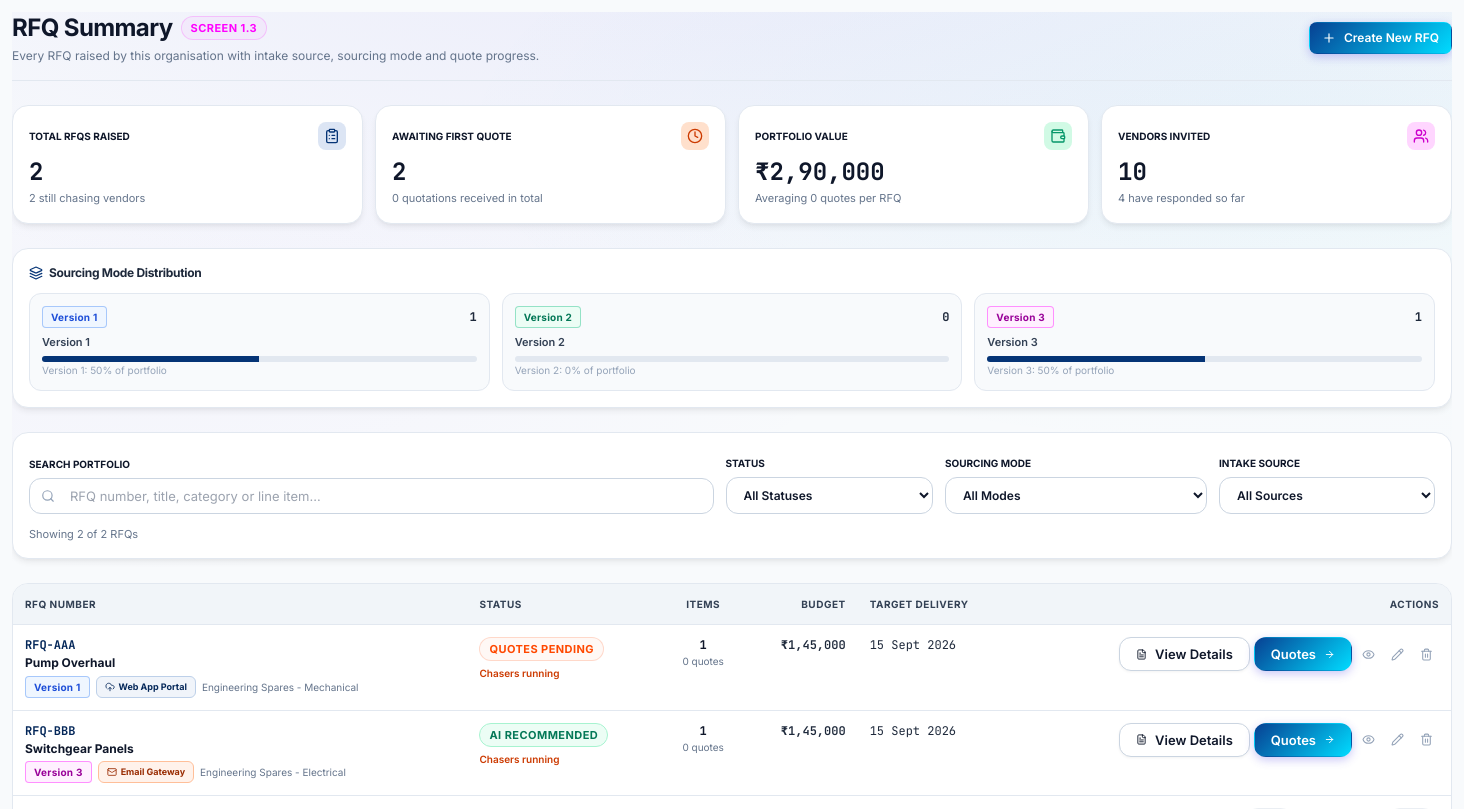
Test: Buyer RFQ Summary (Screen 1.3) › search & filters › shows a no-match message when filters exclude everything
Type "zzzz-no-such-rfq" into the search field labelled "Search Portfolio". click: (371, 496)
box: [29,478,714,514]
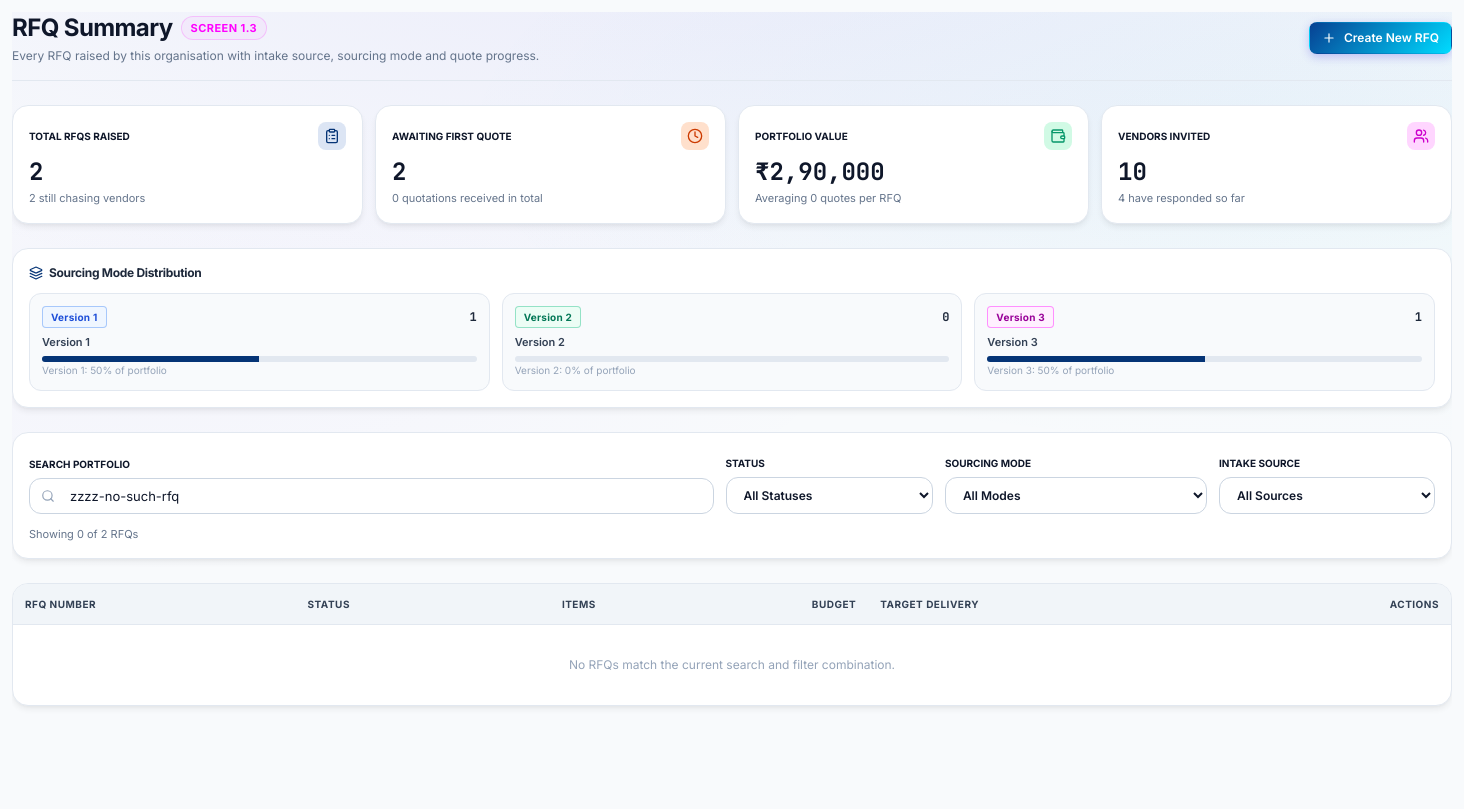
Check: the text "No RFQs match the current search and filter combination." is shown, box [13,625,1451,705]
Check: the text "RFQ-AAA" is gone
